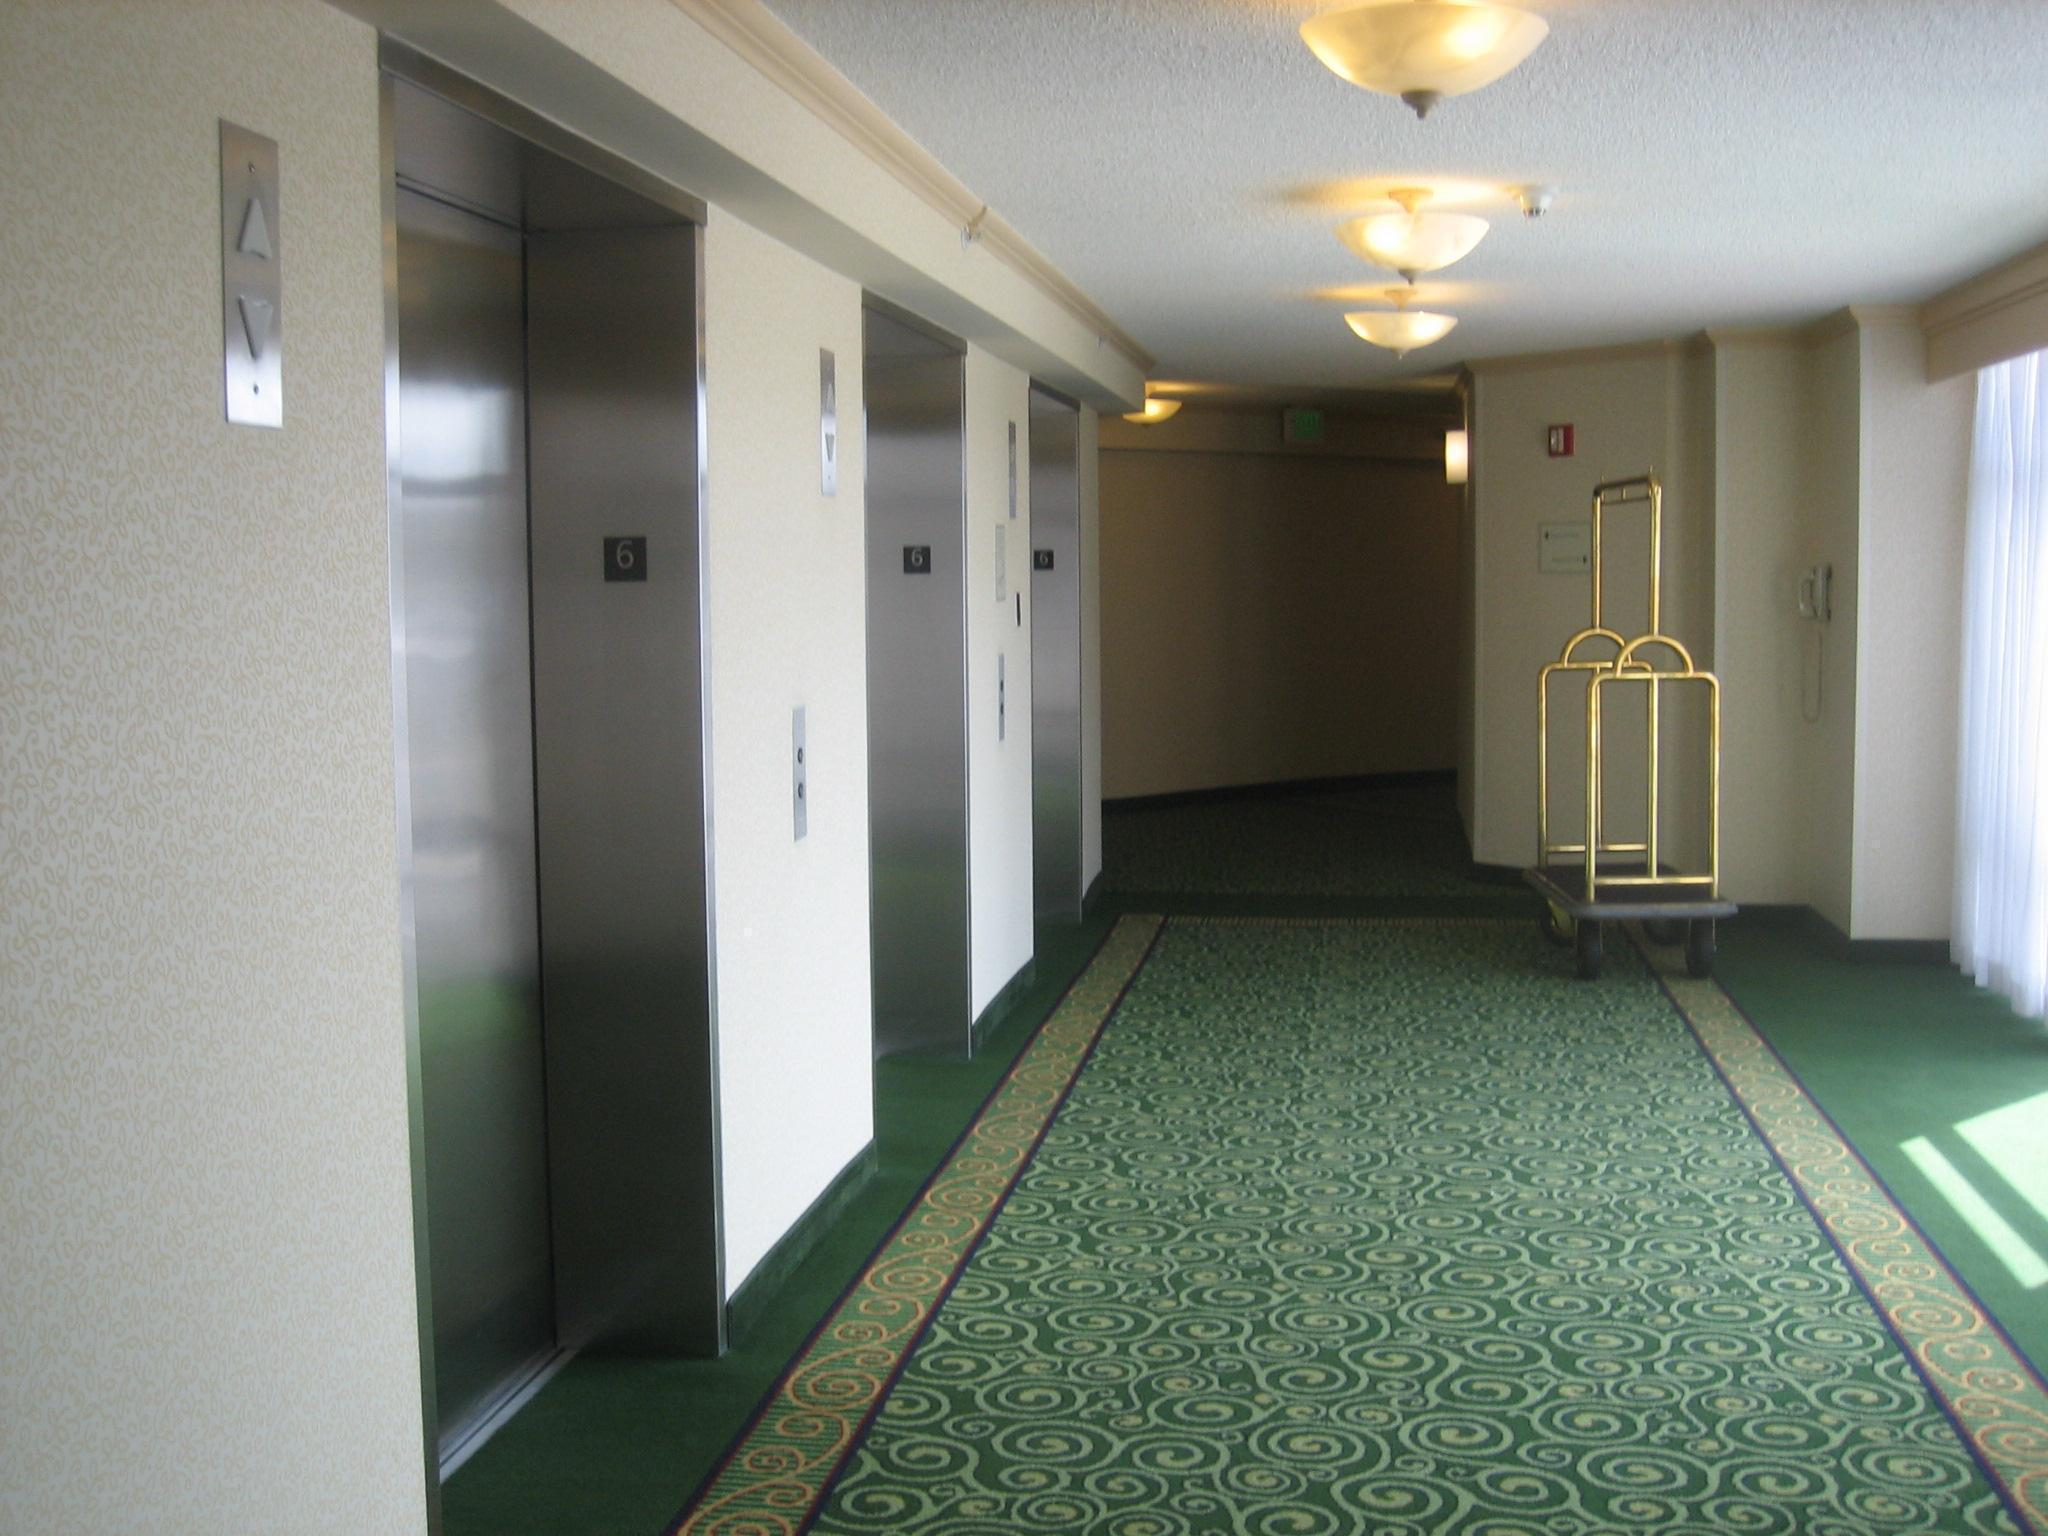Otro Obstaculo: (1526, 465, 1771, 994)
Ventana: (1950, 350, 2046, 1002)
